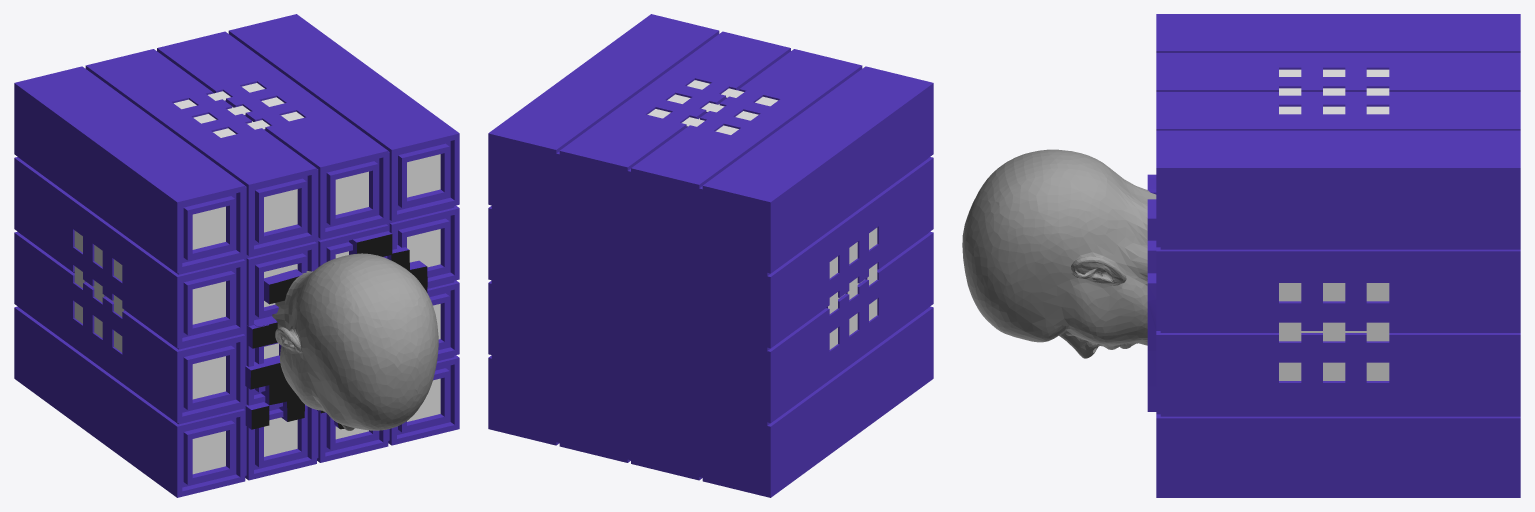
File: Huffman2.obj
The picture shows the model from 3 angles, left to right: view 1: azimuth 30°, elevation 25°; view 2: azimuth 150°, elevation 25°; view 3: azimuth 270°, elevation 25°; orthographic projection. The views are drawn at different scales.
Parts seen in each view (by area): view 1: MeshBody1:1, MeshBody1; view 2: MeshBody1:1; view 3: MeshBody1:1, MeshBody1.
Boxes of the visible parts, bbox=[...] form: MeshBody1:1: bbox=[14, 14, 459, 497]; MeshBody1: bbox=[272, 253, 438, 430]; MeshBody1:1: bbox=[488, 14, 933, 497]; MeshBody1:1: bbox=[1147, 14, 1520, 497]; MeshBody1: bbox=[962, 149, 1156, 358].
Size of the model in its own units: 83 by 83 by 127.
